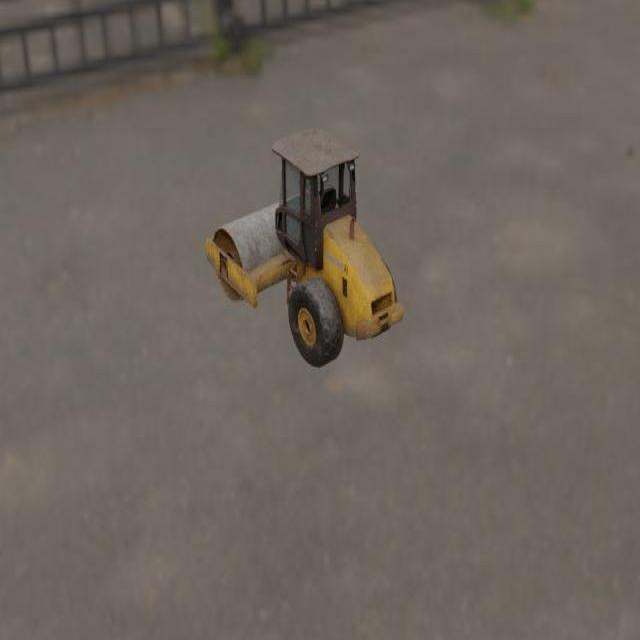Roller: (205, 127, 403, 368)
